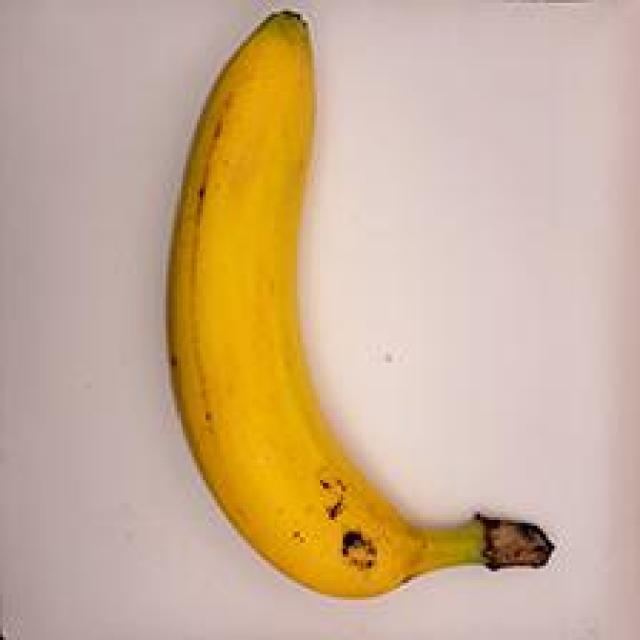Ripe: (137, 0, 572, 626)
